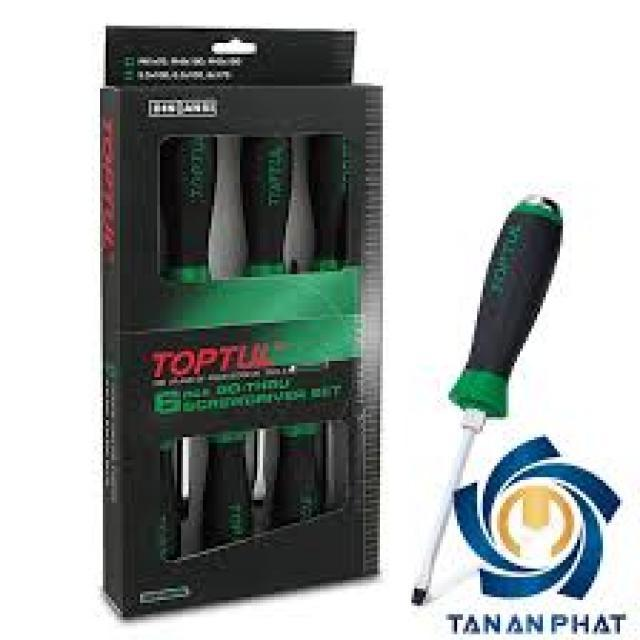screwdriver: (408, 178, 572, 608)
